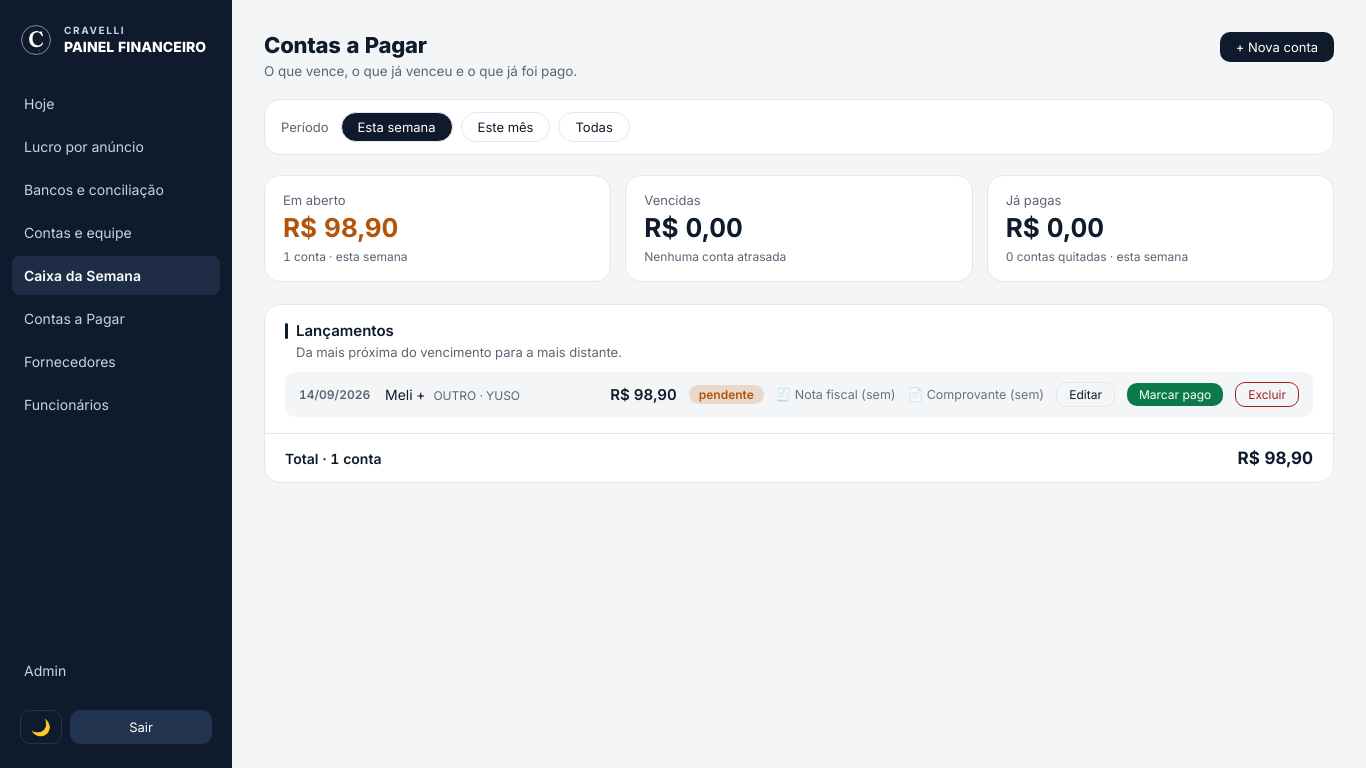
it: Contas a Pagar — editar conta › Editar abre o formulário já preenchido, com a data no formato do campo
The image size is (1366, 768).
Click the button "Editar".
click(1086, 395)  # box [1056,382,1115,407]
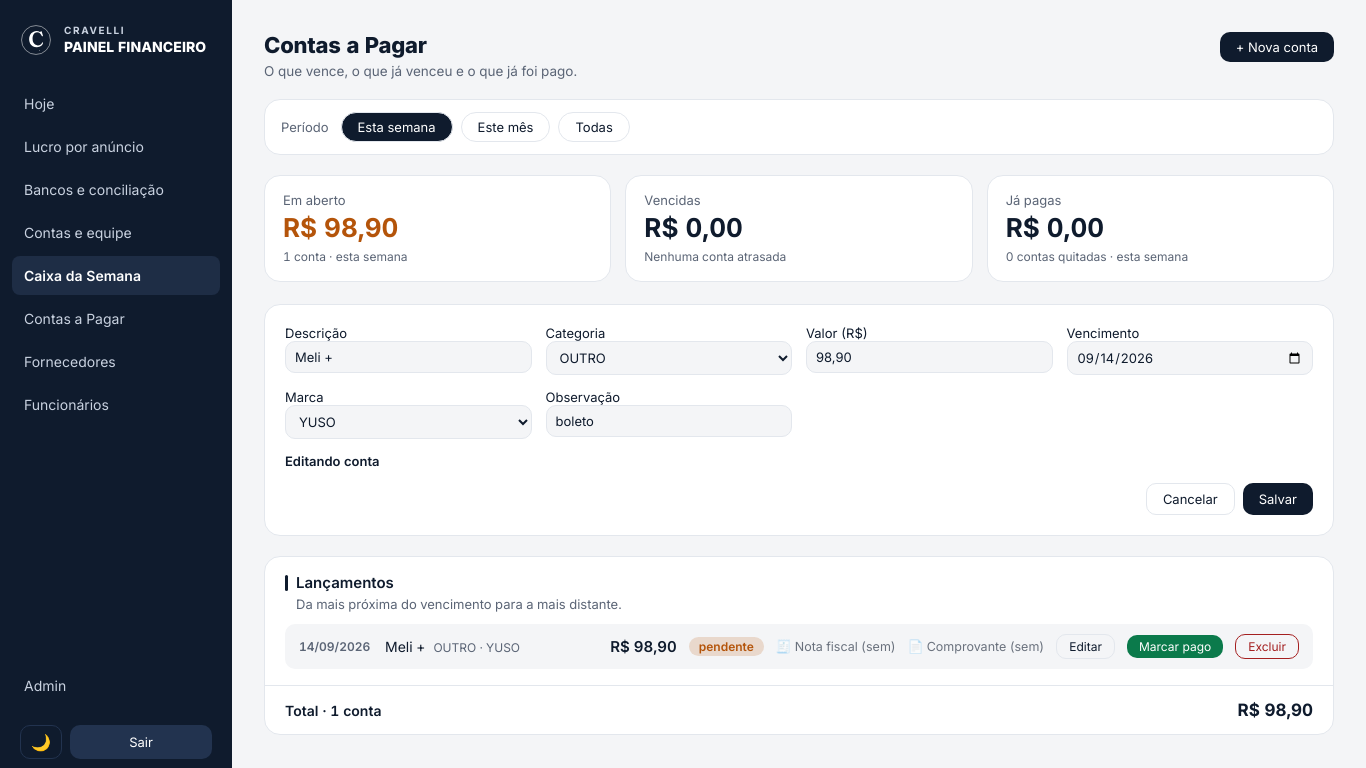
Check: the field showing "Meli +" is shown, box [285,341,532,373]
Check: the field showing "98,90" is shown, box [806,341,1052,373]
Check: the date field showing "2026-09-14" is shown, box [1066,341,1313,375]
